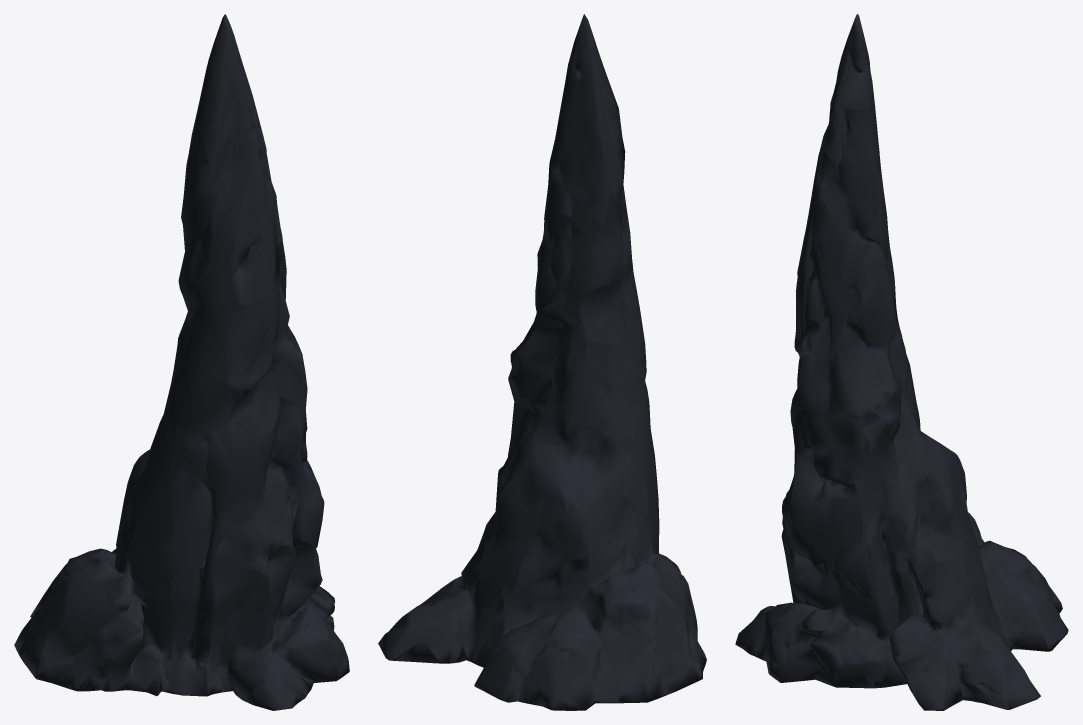
Rendered from rock_spire.glb.
The picture shows the model from 3 angles, left to right: view 1: azimuth 30°, elevation 25°; view 2: azimuth 150°, elevation 25°; view 3: azimuth 270°, elevation 25°; orthographic projection. The views are drawn at different scales.
Size of the model in its own units: 0.9329 by 1.9 by 0.9109.
1 material, 1 textured.
